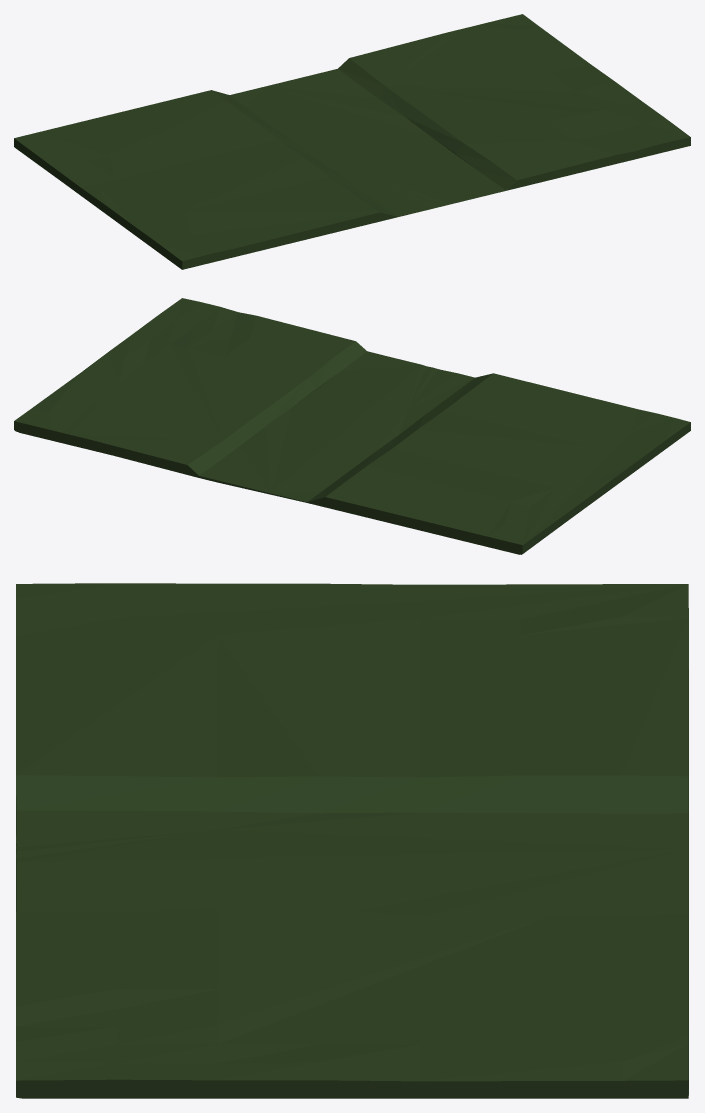
Rendered from terrain_4.FBX.
The picture shows the model from 3 angles, top to bottom: view 1: azimuth 30°, elevation 25°; view 2: azimuth 150°, elevation 25°; view 3: azimuth 270°, elevation 25°; orthographic projection. The views are drawn at different scales.
Visible parts, largest first — view 1: terrain_005; view 2: terrain_005; view 3: terrain_005.
Part boxes in pixels (x1,y1,x2,y2): terrain_005: (14,14,690,269); terrain_005: (14,298,690,554); terrain_005: (16,583,688,1098).
Size of the model in its own units: 980 by 22.85 by 561.
